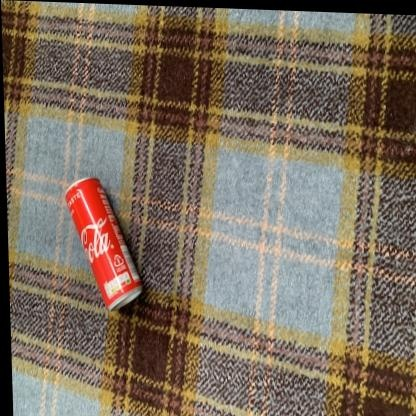trash: (66, 177, 141, 309)
